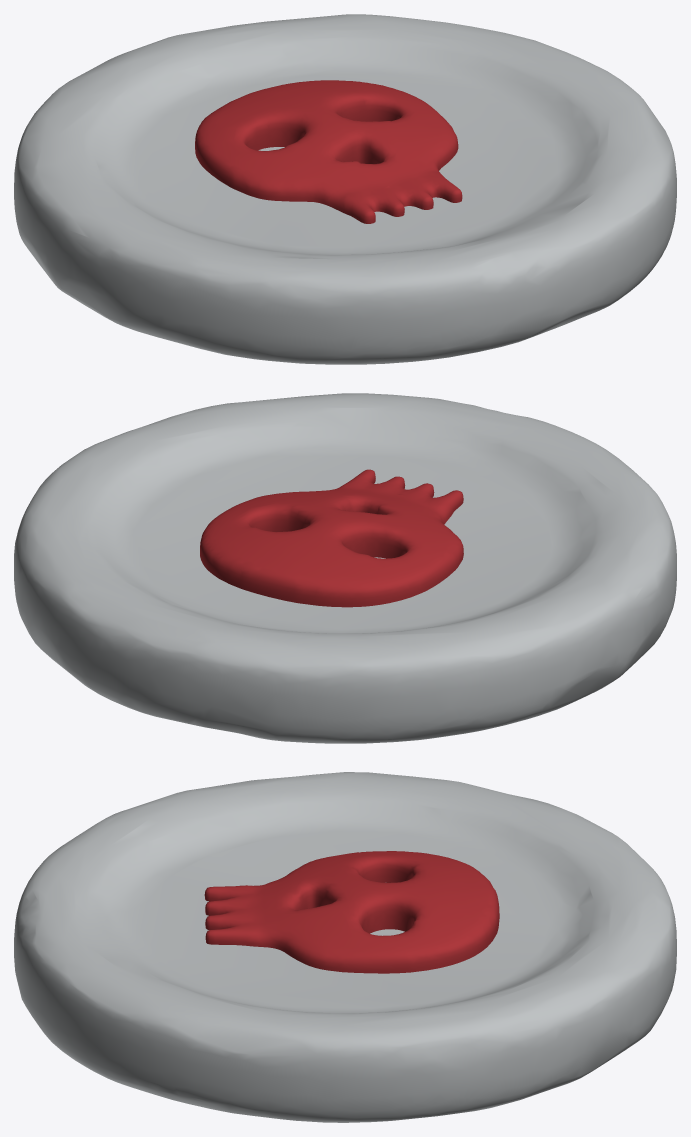
File: token-necromancer-blue.glb
3 renders of one model, top to bottom at view 1: azimuth 30°, elevation 25°; view 2: azimuth 150°, elevation 25°; view 3: azimuth 270°, elevation 25°, orthographic.
Visible parts, largest first — view 1: token_necromancer_blue; view 2: token_necromancer_blue; view 3: token_necromancer_blue.
Boxes of the visible parts, x1=… form: token_necromancer_blue: x1=14, y1=14, x2=676, y2=364; token_necromancer_blue: x1=14, y1=393, x2=676, y2=743; token_necromancer_blue: x1=14, y1=772, x2=676, y2=1122.
Bounding box in the file's own units: 0.4139 × 0.072 × 0.414.
